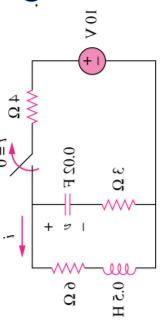inductor: (95, 251, 138, 280)
